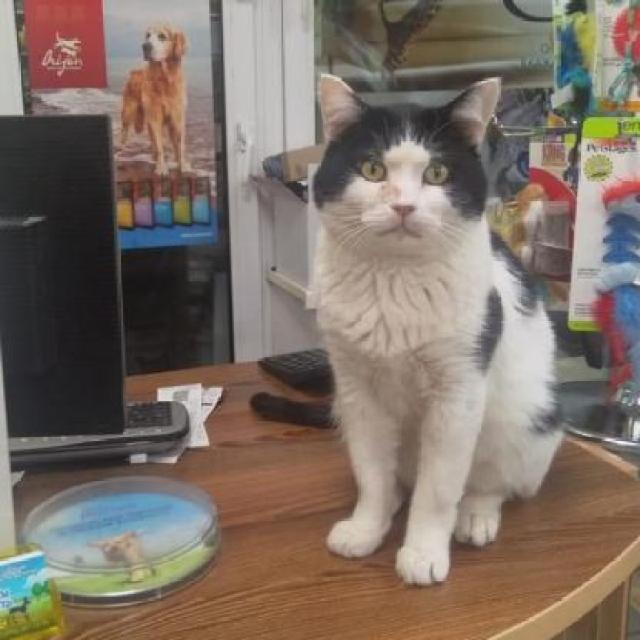cat: (313, 73, 572, 592)
